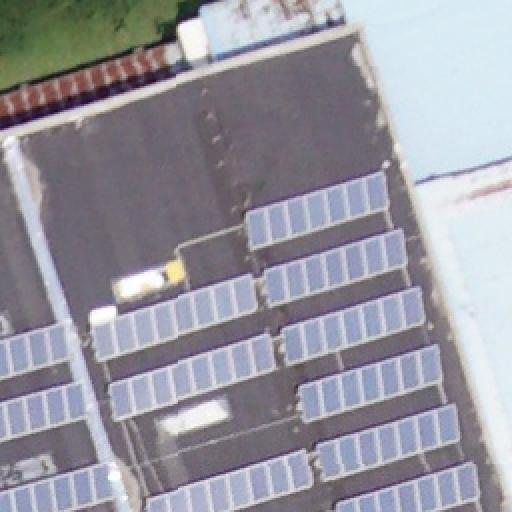solar-panel: (89, 271, 263, 361), (110, 332, 282, 420), (263, 228, 417, 308), (317, 400, 467, 480), (295, 344, 449, 420), (279, 286, 433, 362), (246, 175, 398, 249), (148, 448, 320, 512), (334, 460, 486, 512), (0, 460, 120, 512), (0, 381, 92, 443), (0, 320, 72, 384)
